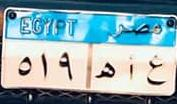1: (41, 53, 48, 77)
5: (16, 55, 33, 78)
9: (58, 51, 78, 82)
ain: (147, 54, 166, 87)
alif: (128, 54, 138, 79)
haa: (94, 59, 118, 82)
